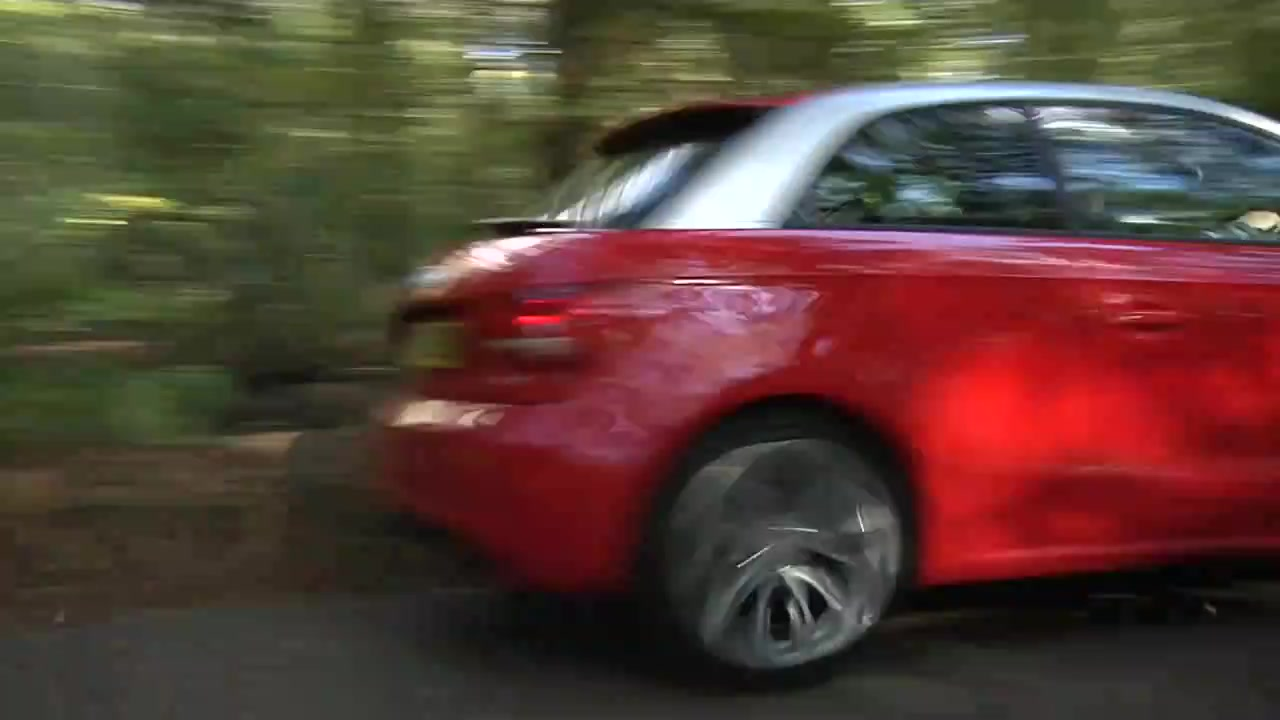car: (357, 69, 1276, 681)
